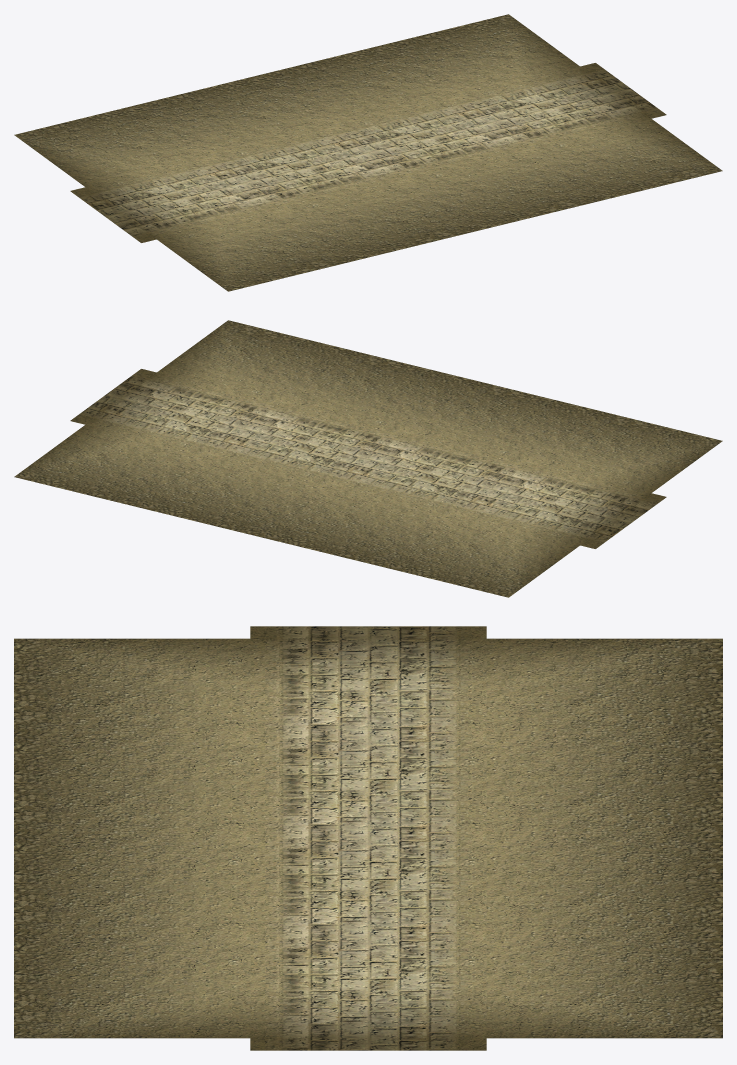
Rendered from Mission12_Side_Gate_Landscape.glb.
The picture shows the model from 3 angles, top to bottom: view 1: azimuth 30°, elevation 25°; view 2: azimuth 150°, elevation 25°; view 3: azimuth 270°, elevation 25°; orthographic projection. The views are drawn at different scales.
Visible parts, largest first — view 1: MISSION12_SIDE_GATE_LANDSCAPE, MISSION12_SIDE_GATE_LANDSCAPE001, MISSION12_SIDE_GATE_LANDSCAPE004, MISSION12_SIDE_GATE_LANDSCAPE003, MISSION12_SIDE_GATE_LANDSCAPE002; view 2: MISSION12_SIDE_GATE_LANDSCAPE, MISSION12_SIDE_GATE_LANDSCAPE001, MISSION12_SIDE_GATE_LANDSCAPE003, MISSION12_SIDE_GATE_LANDSCAPE004, MISSION12_SIDE_GATE_LANDSCAPE002; view 3: MISSION12_SIDE_GATE_LANDSCAPE, MISSION12_SIDE_GATE_LANDSCAPE001, MISSION12_SIDE_GATE_LANDSCAPE004, MISSION12_SIDE_GATE_LANDSCAPE003, MISSION12_SIDE_GATE_LANDSCAPE002.
Boxes of the visible parts, box(x1,y1,x2,y2) form: MISSION12_SIDE_GATE_LANDSCAPE: box(70, 112, 465, 291); MISSION12_SIDE_GATE_LANDSCAPE001: box(342, 66, 722, 246); MISSION12_SIDE_GATE_LANDSCAPE004: box(271, 14, 579, 141); MISSION12_SIDE_GATE_LANDSCAPE003: box(14, 59, 322, 186); MISSION12_SIDE_GATE_LANDSCAPE002: box(580, 63, 666, 118); MISSION12_SIDE_GATE_LANDSCAPE: box(271, 395, 722, 548); MISSION12_SIDE_GATE_LANDSCAPE001: box(85, 320, 536, 469); MISSION12_SIDE_GATE_LANDSCAPE003: box(200, 500, 579, 597); MISSION12_SIDE_GATE_LANDSCAPE004: box(14, 425, 393, 522); MISSION12_SIDE_GATE_LANDSCAPE002: box(70, 369, 156, 424); MISSION12_SIDE_GATE_LANDSCAPE: box(14, 626, 486, 888); MISSION12_SIDE_GATE_LANDSCAPE001: box(14, 788, 486, 1038); MISSION12_SIDE_GATE_LANDSCAPE004: box(486, 789, 722, 1038); MISSION12_SIDE_GATE_LANDSCAPE003: box(486, 638, 722, 888); MISSION12_SIDE_GATE_LANDSCAPE002: box(250, 1038, 486, 1050).
Bounding box in the file's own units: 17 × 0 × 12.
3 materials, 3 textured.
